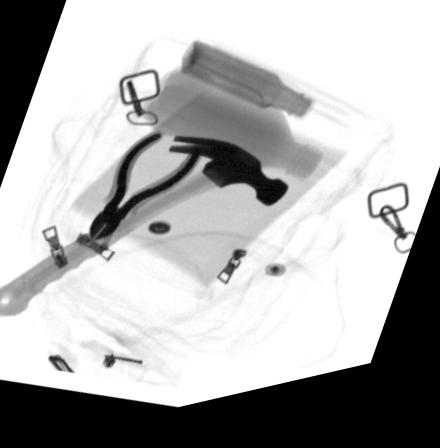Hammer: (0, 143, 287, 317)
Pliers: (88, 137, 202, 245)
